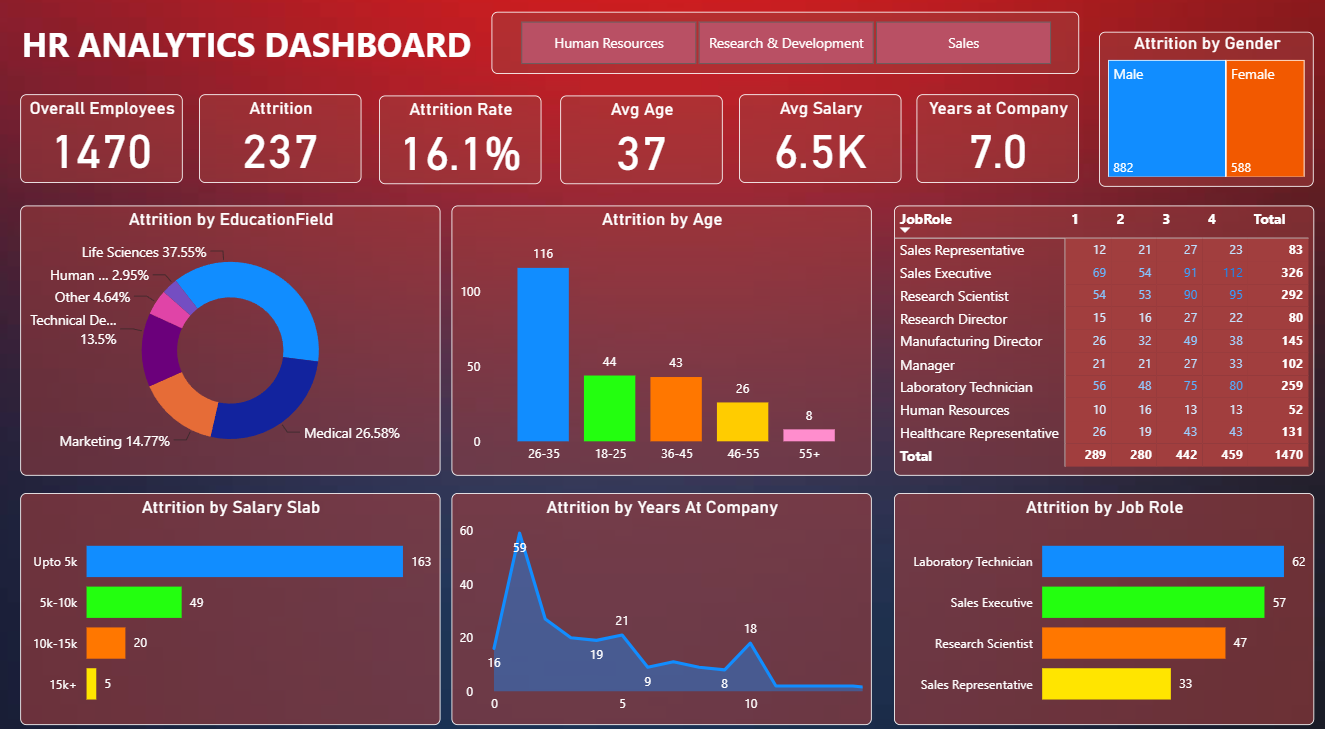

This screenshot's page, from the dashboard's own definition file:
{"tool":"powerbi","page":{"name":"Page 1","canvas":[1280,720],"ordinal":0},"visuals":[{"type":"card","title":"Overall Employees","fields":{"Values":["Sum(HR_Analytics.EmployeeCount)"]},"box":[20.5,102.5,156.8,85.7],"z":0},{"type":"card","title":"Avg Age","fields":{"Values":["Avg(HR_Analytics.Age)"]},"box":[541.7,103.8,156.8,85.7],"z":1000},{"type":"card","title":"Avg Salary","fields":{"Values":["Avg(HR_Analytics.MonthlyIncome)"]},"box":[714.2,102.5,156.8,85.7],"z":2000},{"type":"card","title":"Years at Company","fields":{"Values":["Avg(HR_Analytics.YearsAtCompany)"]},"box":[885.5,102.5,156.8,85.7],"z":3000},{"type":"card","title":"Attrition","fields":{"Values":["HR_Analytics.Attrition_Yes"]},"box":[193,102.5,156.8,85.7],"z":4000},{"type":"card","title":"Attrition Rate","fields":{"Values":["HR_Analytics.AttritionRate"]},"box":[366.8,103.8,156.8,85.7],"z":5000},{"type":"slicer","fields":{"Values":["HR_Analytics.Department"]},"box":[475.1,23.2,567,60.3],"z":6000},{"type":"treemap","title":"Attrition by Gender","fields":{"Group":["HR_Analytics.Gender"],"Values":["CountNonNull(HR_Analytics.Attrition)"]},"box":[1061.9,42.2,207.5,149.6],"z":7000},{"type":"donutChart","title":"Attrition by EducationField","fields":{"Category":["HR_Analytics.EducationField"],"Y":["HR_Analytics.Attrition_Yes"]},"box":[20.5,209.9,405.4,260.6],"z":8000},{"type":"columnChart","title":"Attrition by Age","fields":{"Category":["HR_Analytics.AgeGroup"],"Y":["HR_Analytics.Attrition_Yes"]},"box":[436.7,209.9,405.4,260.6],"z":9000},{"type":"pivotTable","fields":{"Columns":["HR_Analytics.JobSatisfaction"],"Values":["Sum(HR_Analytics.EmployeeCount)"],"Rows":["HR_Analytics.JobRole"]},"box":[863.8,209.9,405.4,260.6],"z":10000},{"type":"barChart","title":"Attrition by Salary Slab","fields":{"Category":["HR_Analytics.SalarySlab"],"Y":["HR_Analytics.Attrition_Yes"]},"box":[20.5,487.4,405.4,224.4],"z":10001},{"type":"areaChart","fields":{"Category":["HR_Analytics.YearsAtCompany"],"Y":["HR_Analytics.Attrition_Yes"]},"box":[436.7,487.4,405.4,224.4],"z":10002},{"type":"barChart","title":"Attrition by Salary Slab","fields":{"Y":["HR_Analytics.Attrition_Yes"],"Category":["HR_Analytics.JobRole"]},"box":[863.8,487.4,405.4,224.4],"z":10003},{"type":"textbox","box":[2.4,27.7,472.9,65.1],"z":10004}]}

Visuals, with their boxes in screenshot pixels (x1, y1, x2, y2), scaled from the page's 1280x720 canvas onto the 1325x729 screenshot:
"Overall Employees" card: (x1=21, y1=104, x2=184, y2=191)
"Avg Age" card: (x1=561, y1=105, x2=723, y2=192)
"Avg Salary" card: (x1=739, y1=104, x2=902, y2=191)
"Years at Company" card: (x1=917, y1=104, x2=1079, y2=191)
"Attrition" card: (x1=200, y1=104, x2=362, y2=191)
"Attrition Rate" card: (x1=380, y1=105, x2=542, y2=192)
slicer - HR_Analytics.Department: (x1=492, y1=23, x2=1079, y2=85)
"Attrition by Gender" treemap: (x1=1099, y1=43, x2=1314, y2=194)
"Attrition by EducationField" donutChart: (x1=21, y1=213, x2=441, y2=476)
"Attrition by Age" columnChart: (x1=452, y1=213, x2=872, y2=476)
pivotTable - HR_Analytics.JobSatisfaction x Sum(HR_Analytics.EmployeeCount): (x1=894, y1=213, x2=1314, y2=476)
"Attrition by Salary Slab" barChart: (x1=21, y1=493, x2=441, y2=721)
areaChart - HR_Analytics.YearsAtCompany x HR_Analytics.Attrition_Yes: (x1=452, y1=493, x2=872, y2=721)
"Attrition by Salary Slab" barChart: (x1=894, y1=493, x2=1314, y2=721)
textbox: (x1=2, y1=28, x2=492, y2=94)
